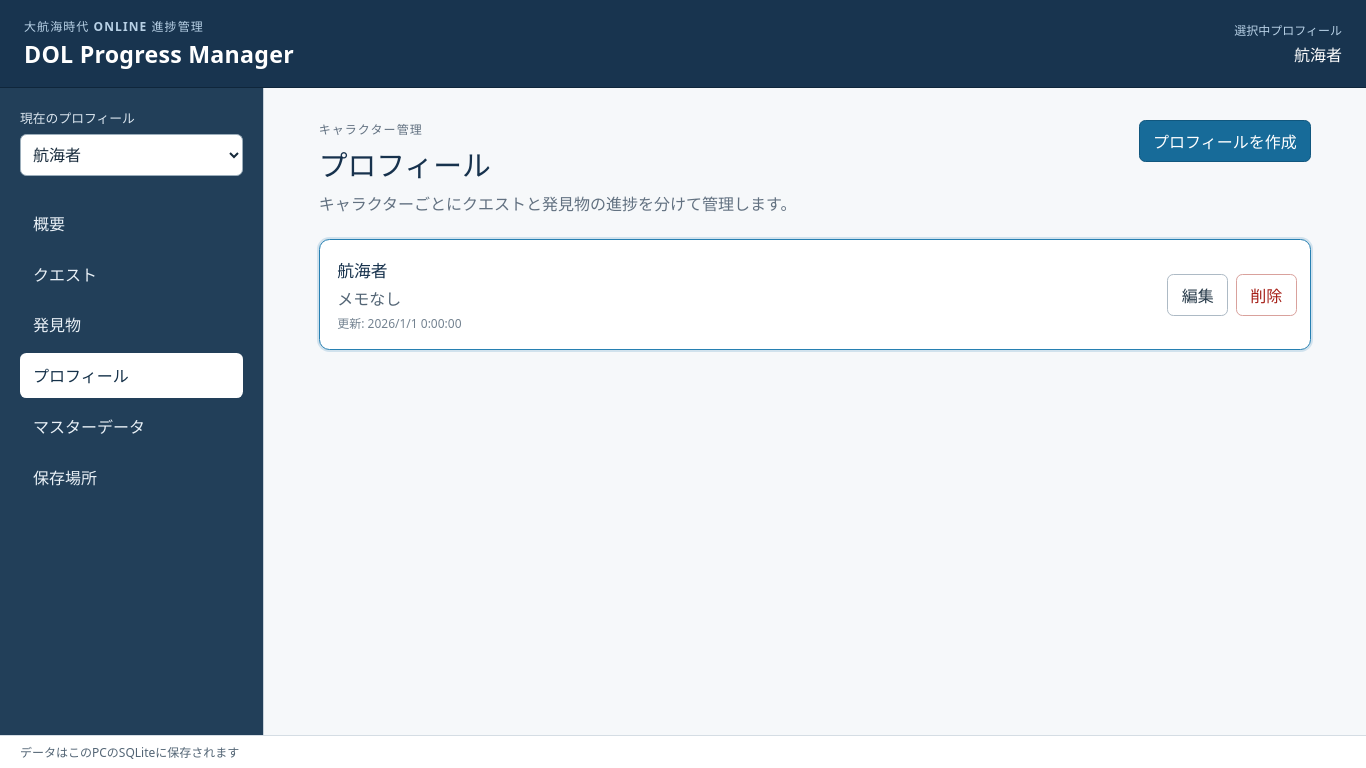
Test: Discovery UI › falls back to all when an Overview category no longer exists in the loaded master
This screenshot has width=1366, height=768.
expect the heading "プロフィール" is shown: met, box 319,145 -> 491,184
Click the button "概要": (132, 223) 20,200 -> 243,245
(page scrolled)
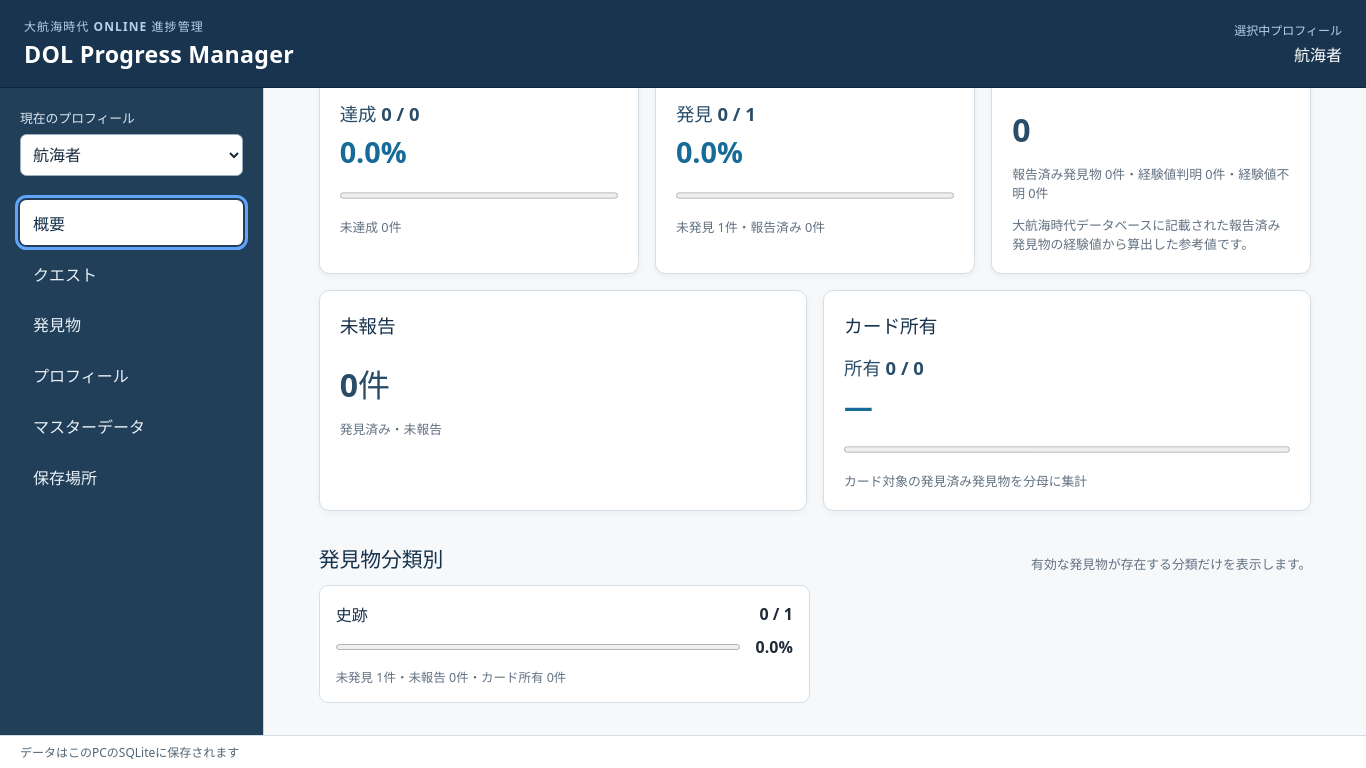
expect the list is shown: met
Click the button named "史跡の発見物一覧を開く": (564, 644) 320,586 -> 809,702
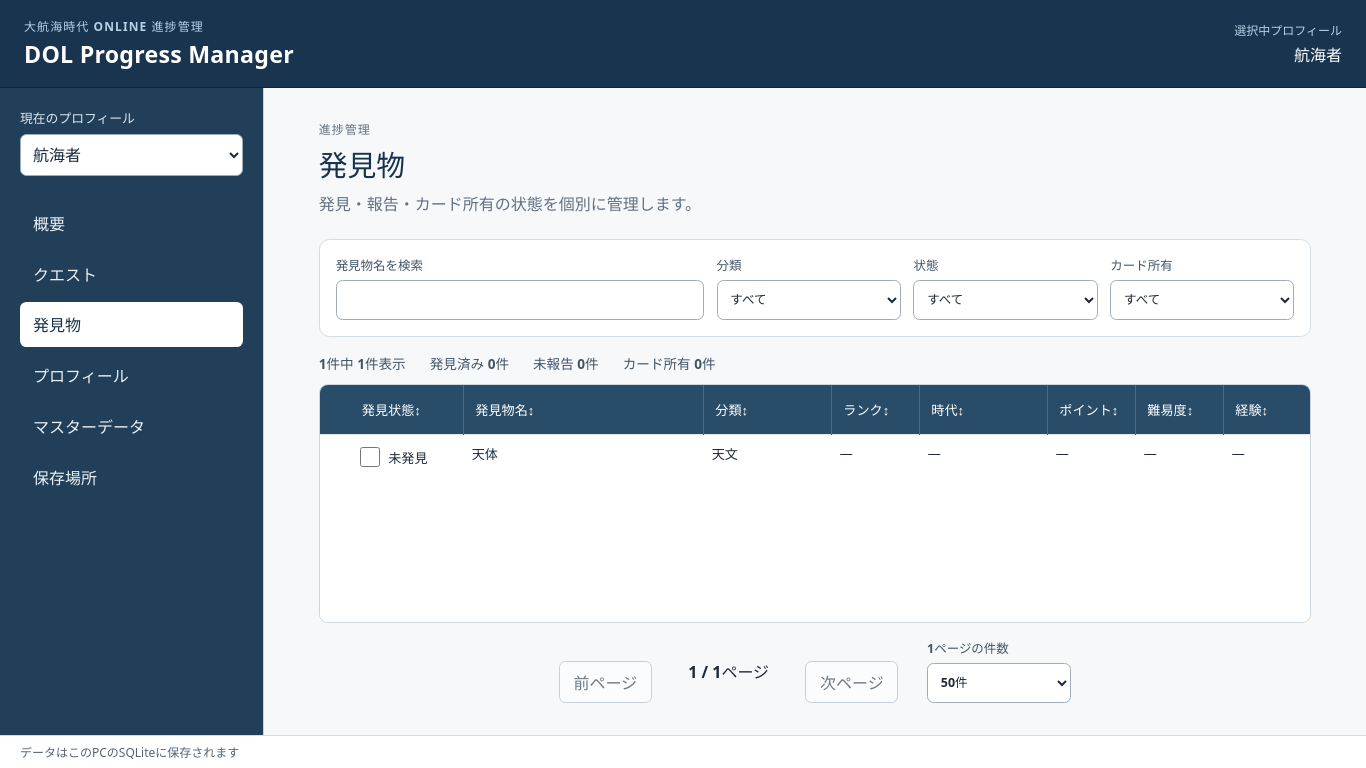
expect the table is shown: met, box 320,385 -> 1311,480
expect the dropdown labelled "分類" shows "すべて": met, box 717,280 -> 901,320
expect the text "天体" is shown: met, box 472,444 -> 498,463
